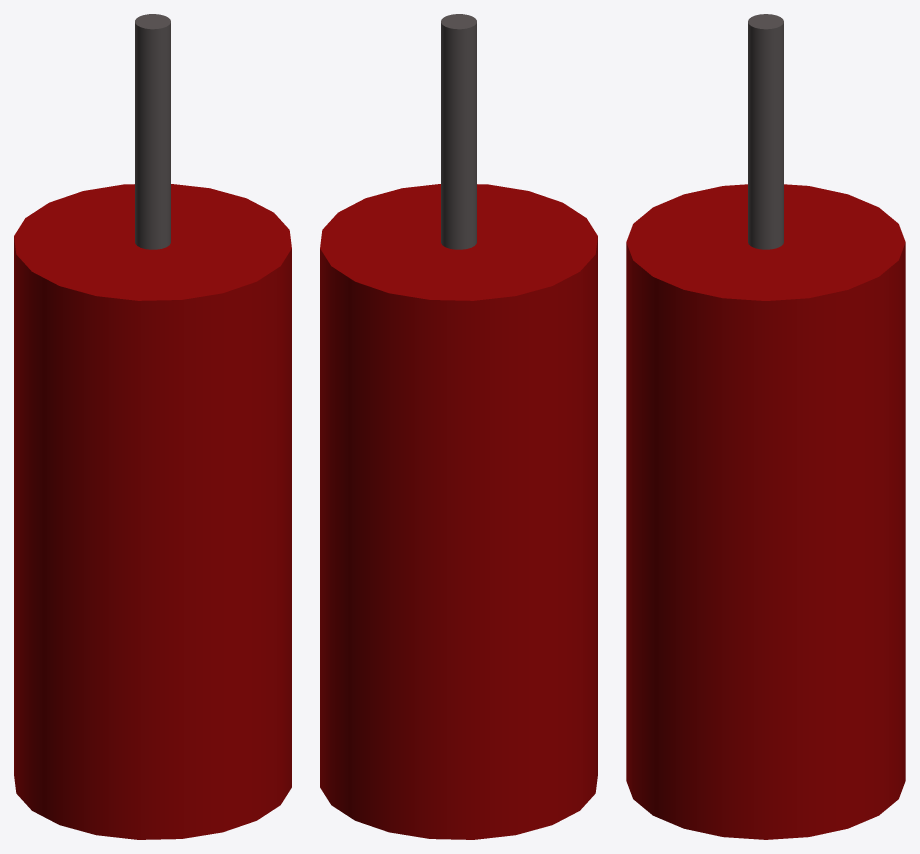
The model's file is dinamita.fbx.
3 views of the same model, side by side, from view 1: azimuth 30°, elevation 25°; view 2: azimuth 150°, elevation 25°; view 3: azimuth 270°, elevation 25° (orthographic).
Parts seen in each view (by area): view 1: pCylinder3; view 2: pCylinder3; view 3: pCylinder3.
Boxes of the visible parts, x1,y1,x2,y2 form: pCylinder3: (14,14,291,839); pCylinder3: (320,14,597,839); pCylinder3: (626,14,905,839).
Size of the model in its own units: 1.6 by 4.8 by 1.6.
